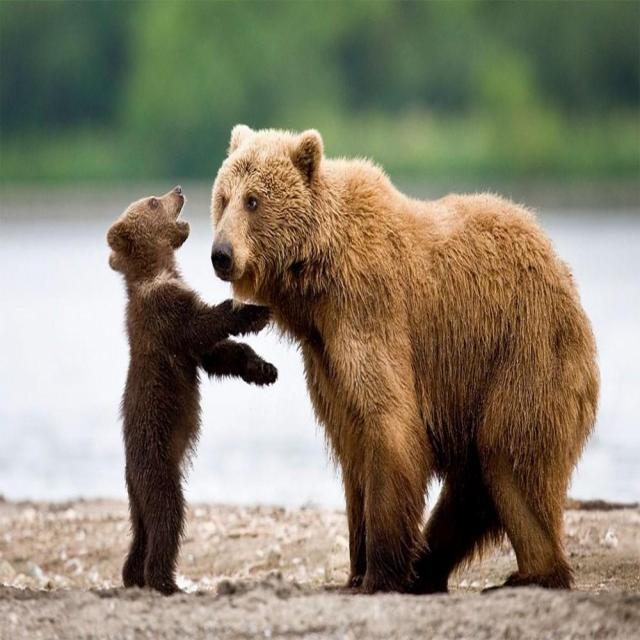Bear: (209, 125, 602, 597), (104, 189, 277, 598)
